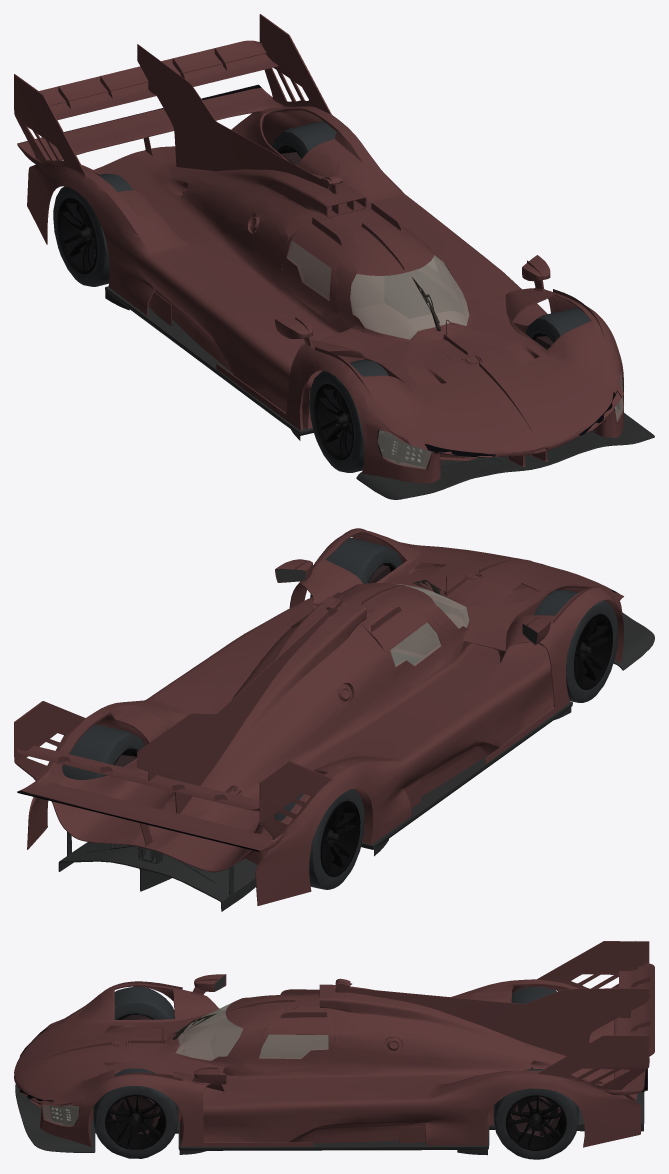
The model's file is ferrari-499p.obj.
3 views of the same model, one above another, from view 1: azimuth 30°, elevation 25°; view 2: azimuth 150°, elevation 25°; view 3: azimuth 270°, elevation 25° (orthographic). The views are drawn at different scales.
Visible parts, largest first — view 1: BODY, GLASS, WHEEL_RF, WHEEL_RR, WHEEL_LR, WHEEL_LF; view 2: BODY, WHEEL_RF, WHEEL_RR, GLASS, WHEEL_LR, WHEEL_LF; view 3: BODY, WHEEL_LF, GLASS, WHEEL_LR, WHEEL_RF, WHEEL_RR.
Boxes of the visible parts, x1,y1,x2,y2 form: BODY: [14, 14, 654, 499]; GLASS: [17, 85, 623, 469]; WHEEL_RF: [309, 360, 388, 472]; WHEEL_RR: [53, 173, 132, 286]; WHEEL_LR: [272, 121, 336, 158]; WHEEL_LF: [525, 307, 590, 342]; BODY: [14, 528, 654, 911]; WHEEL_RF: [534, 590, 617, 702]; WHEEL_RR: [274, 789, 364, 889]; GLASS: [17, 583, 617, 851]; WHEEL_LR: [62, 724, 144, 779]; WHEEL_LF: [310, 537, 402, 597]; BODY: [14, 940, 654, 1155]; WHEEL_LF: [93, 1068, 178, 1158]; GLASS: [19, 1001, 647, 1125]; WHEEL_LR: [493, 1069, 578, 1159]; WHEEL_RF: [114, 986, 174, 1019]; WHEEL_RR: [511, 987, 556, 1003].
Size of the model in its own units: 1.94 by 1.13 by 5.
